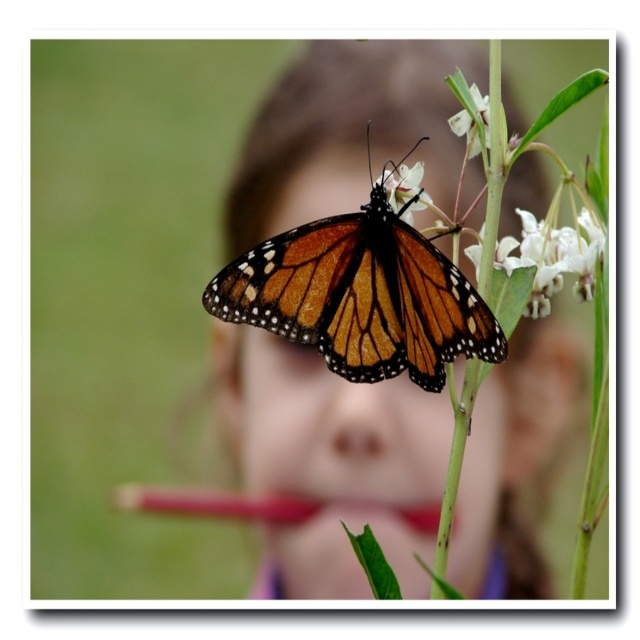Butterfly: (202, 113, 518, 395)
